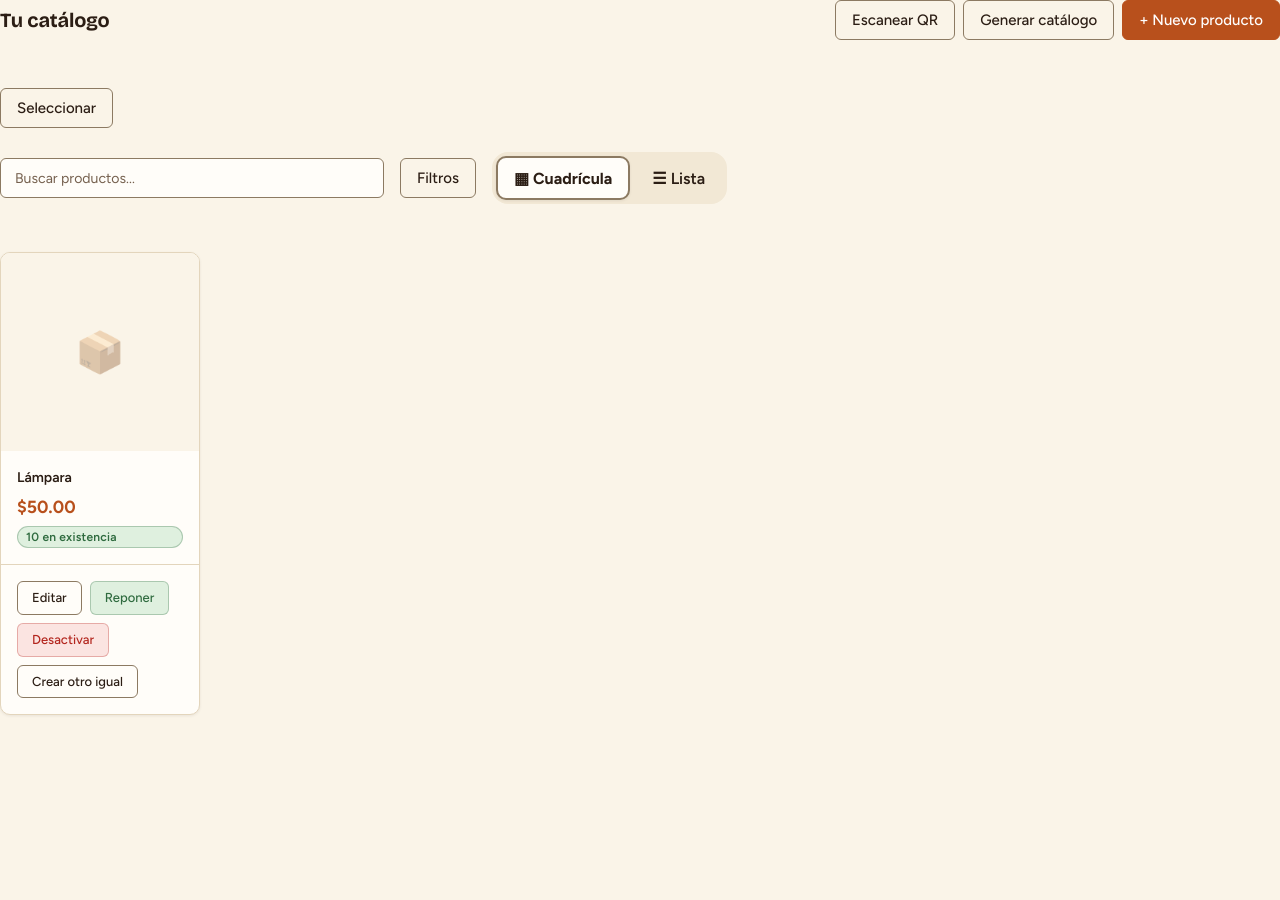
Test case: ProductCatalogView — Reponer existencia › desde el modal de edición › cierra la edición y abre la reposición (no se apilan dos modales)
The image size is (1280, 900).
Expected: the element that starts with "Lámpara" is shown, top-left (0, 252), bottom-right (200, 715)
Click the button "Editar". click: (49, 598)
box: top-left (17, 581), bottom-right (82, 615)
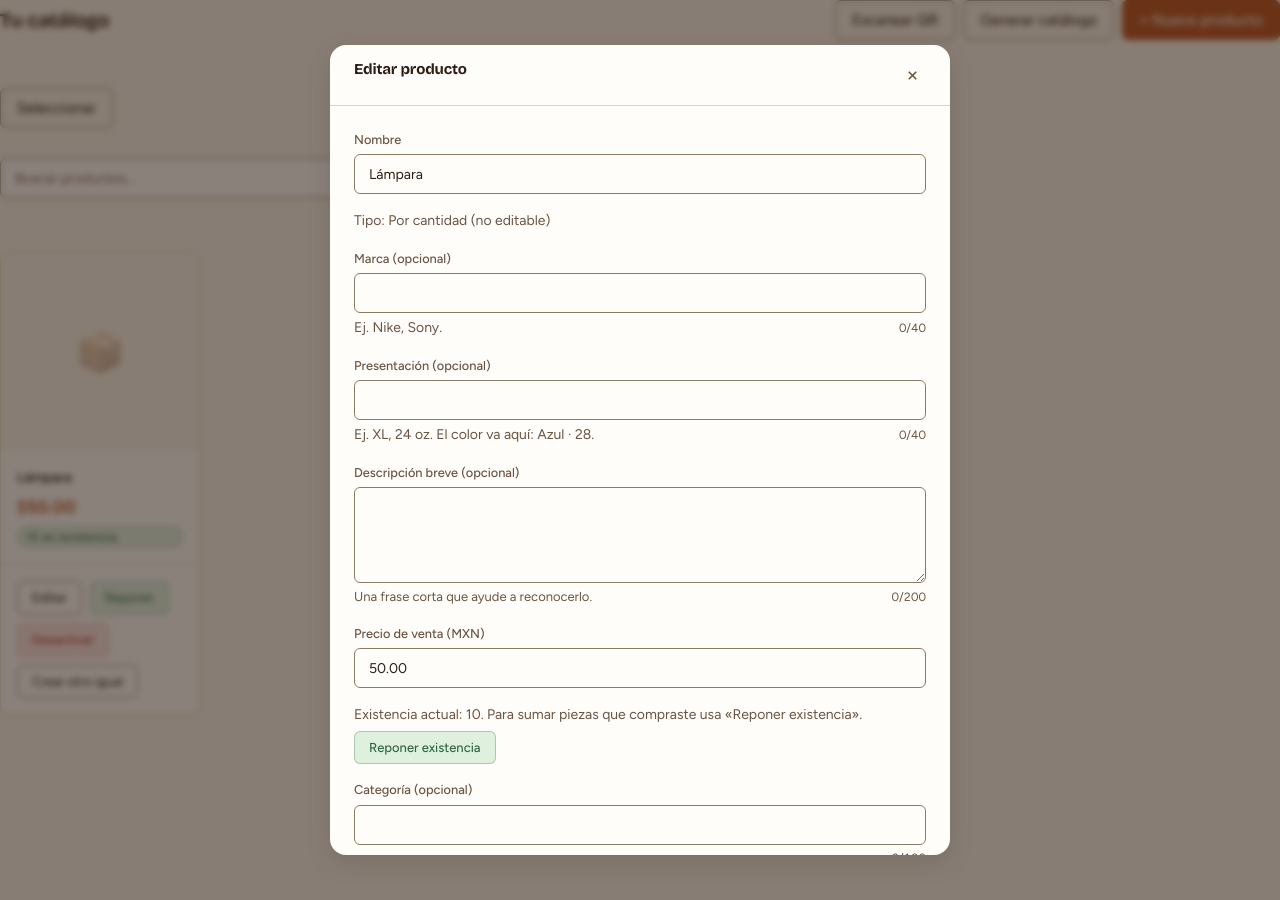
Expected: the text "Editar producto" is shown, top-left (354, 61), bottom-right (467, 78)
Click the button "Reponer existencia". click: (425, 748)
box: top-left (354, 731), bottom-right (496, 764)
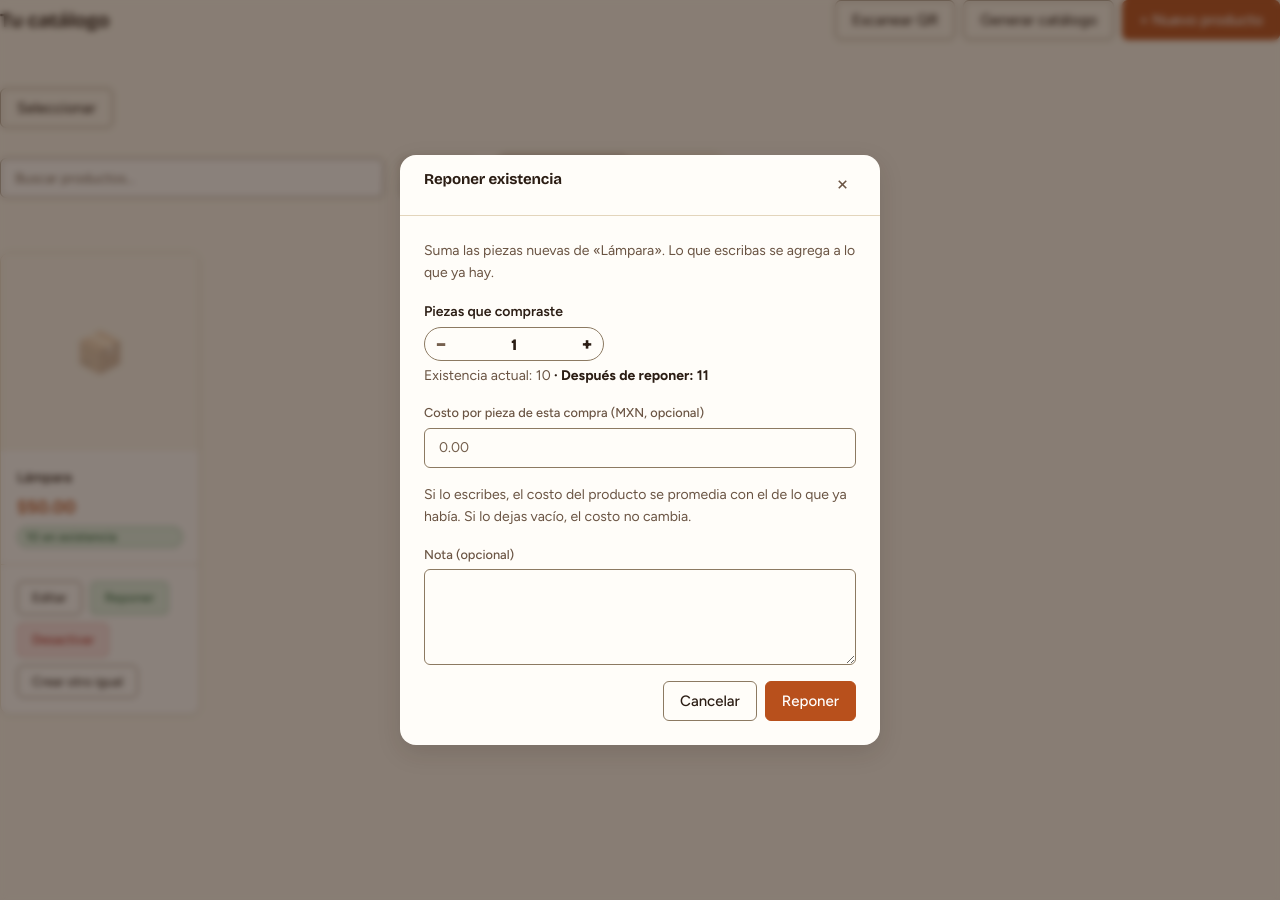
Expected: the dialog is shown
Expected: the text "Editar producto" is gone
